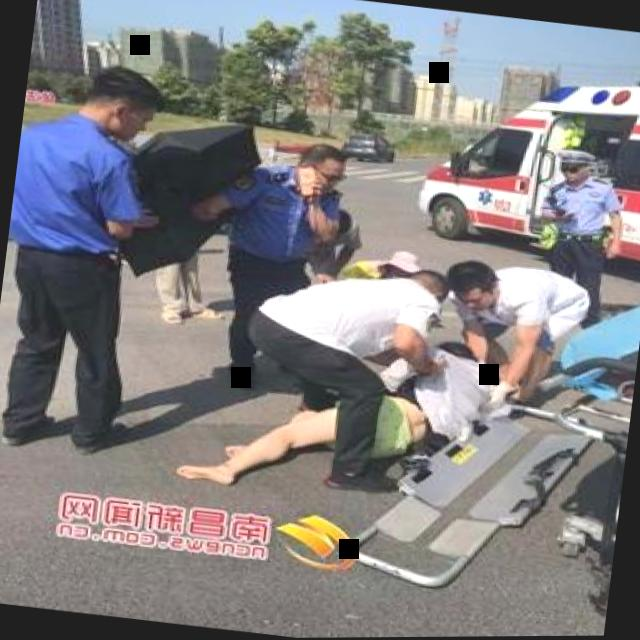Fall-Detected: (196, 299, 517, 512)
